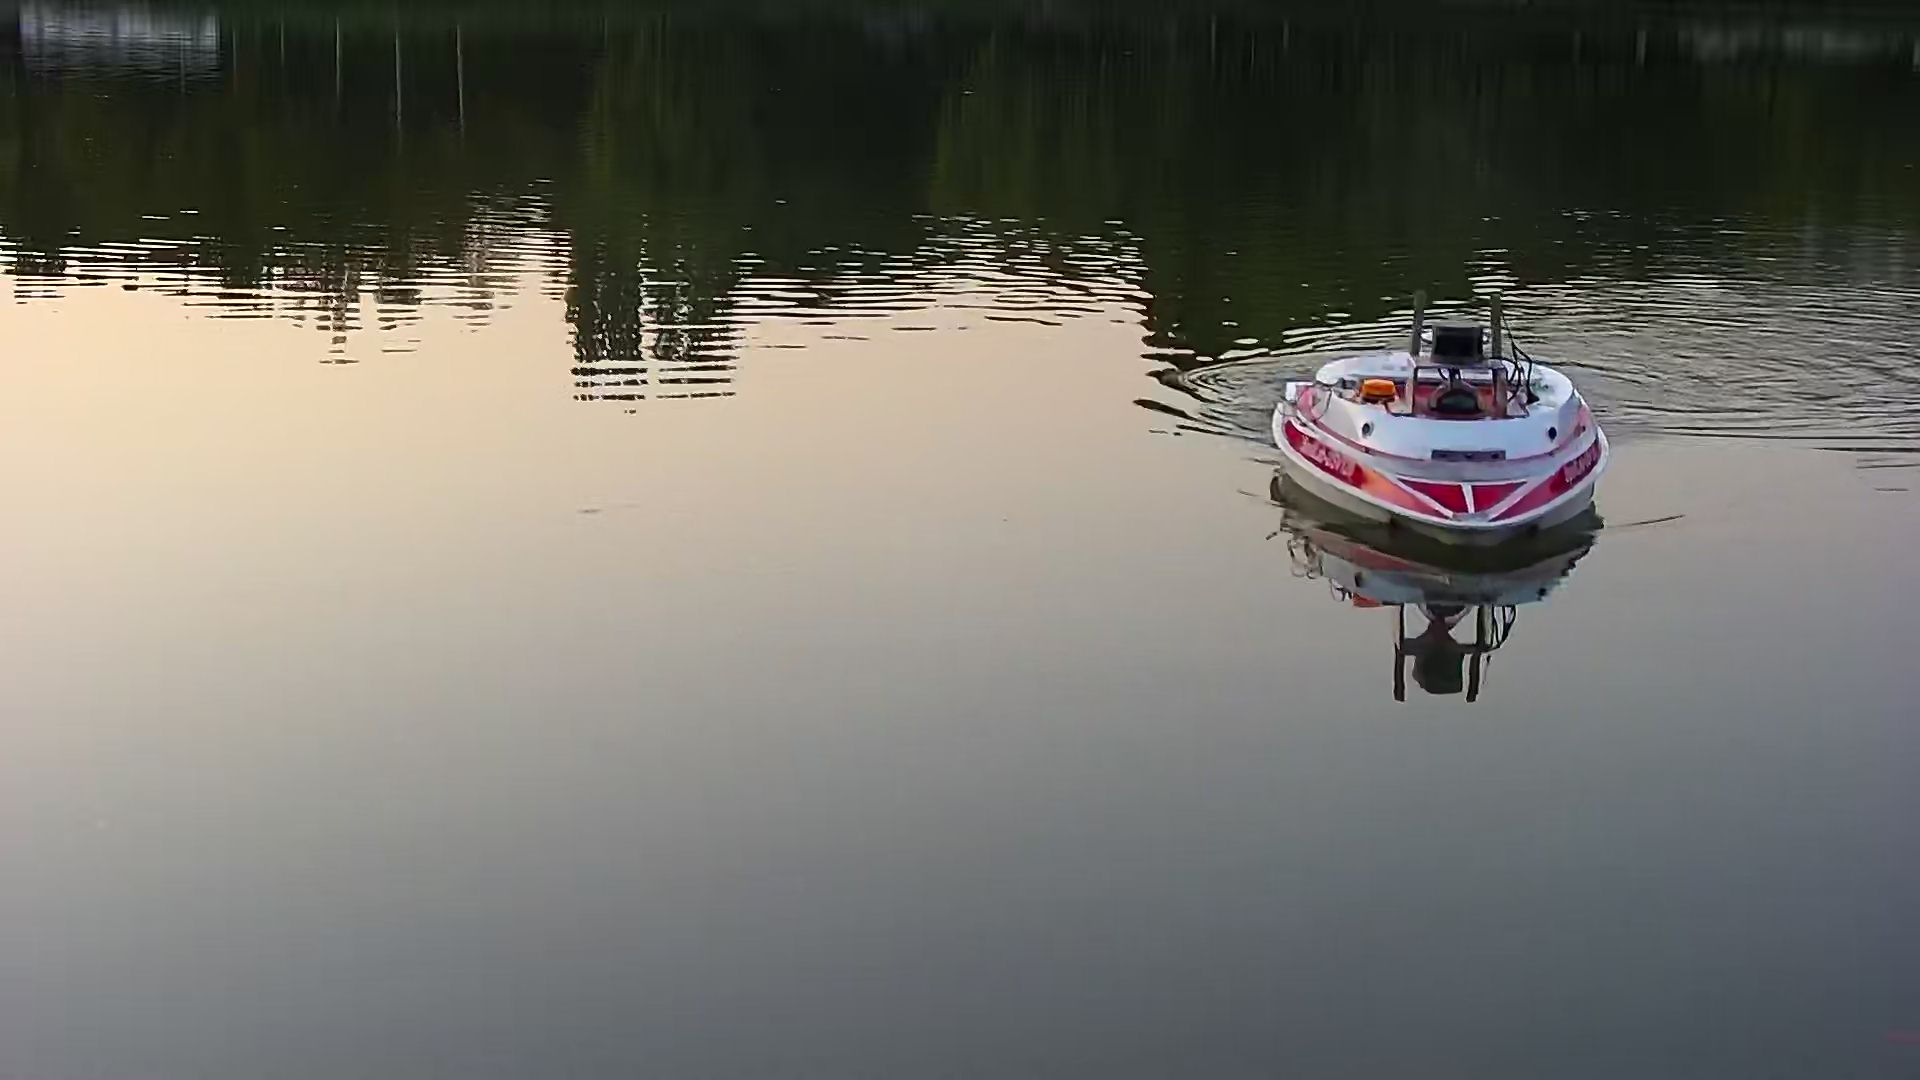boat: (1280, 290, 1609, 555)
